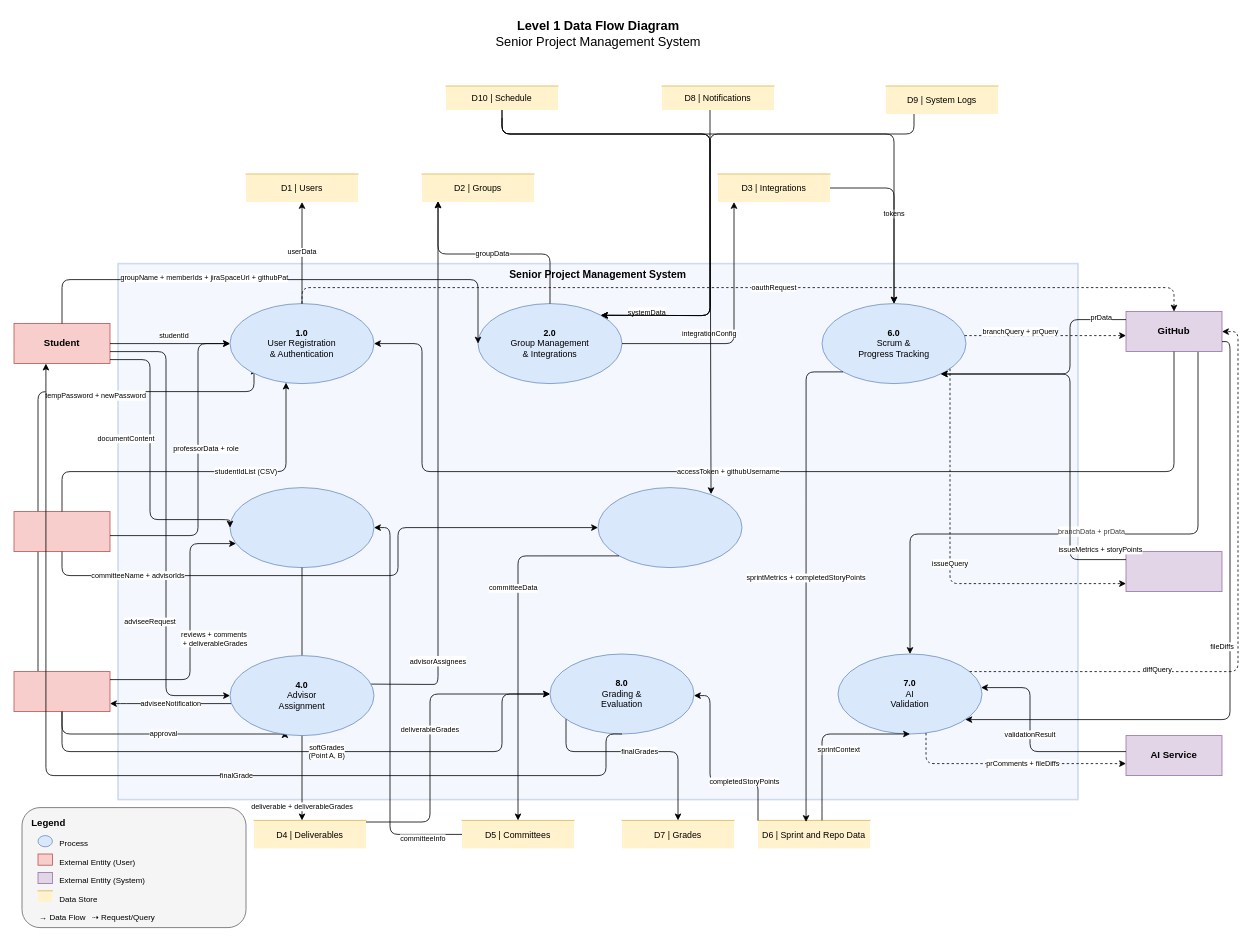
This 1258x942 diagram has some shape labels left out. Here are the shapes that lost their labels. From the top down, the centre of each, then its label:
the point at 61,531: Coordinator
the point at 301,527: 3.0 Submissions & Reviews
the point at 669,527: 5.0 Committee Assignment
the point at 1173,571: JIRA
the point at 61,691: Professor / Advisor
